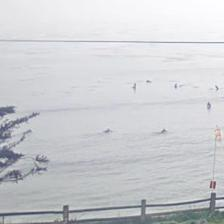surfer: (131, 82, 137, 90), (103, 128, 113, 132), (160, 128, 167, 133), (206, 102, 211, 108), (145, 79, 152, 83), (214, 85, 218, 90), (174, 83, 177, 89)
